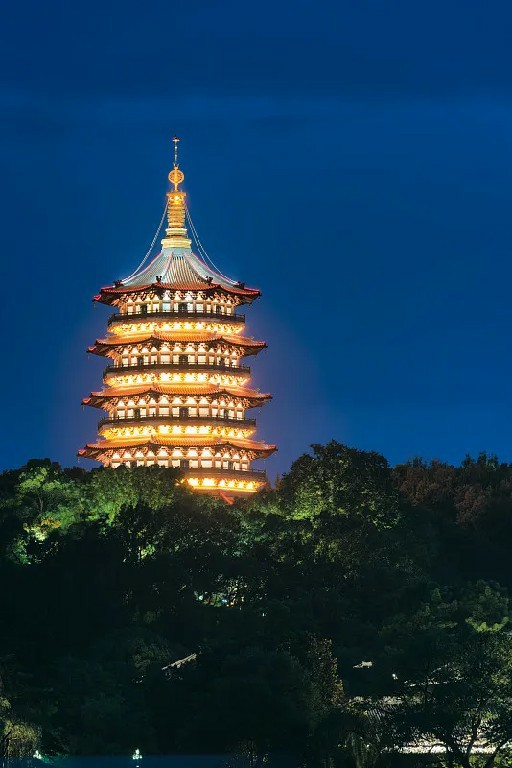Leifeng: (74, 130, 279, 507)
